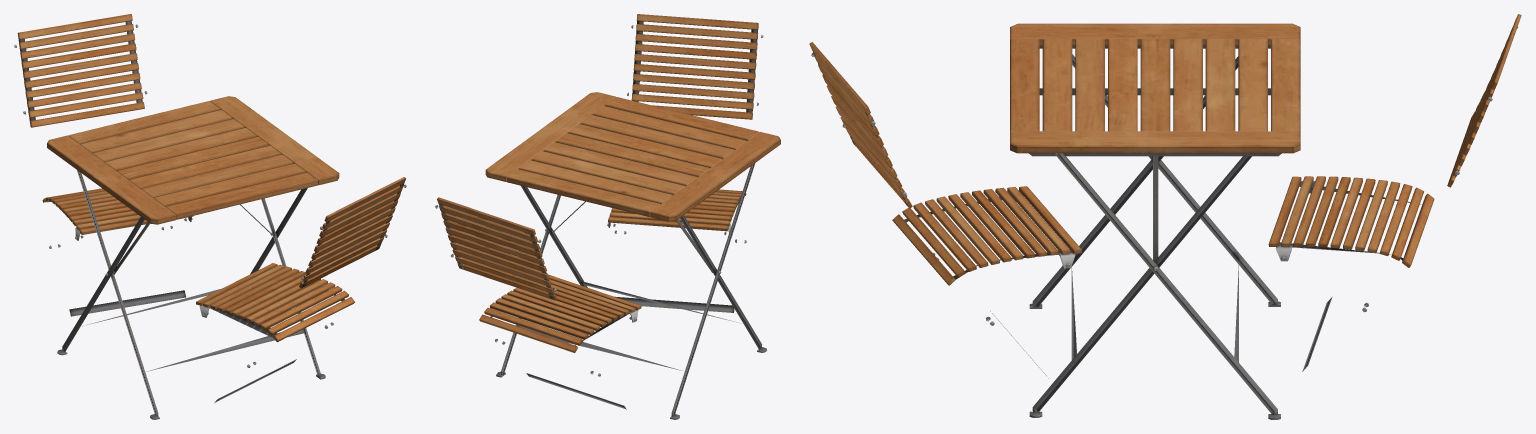
The model's file is outdoor_table_chair_set_01.glb.
3 renders of one model, left to right at view 1: azimuth 30°, elevation 25°; view 2: azimuth 150°, elevation 25°; view 3: azimuth 270°, elevation 25°, orthographic. The views are drawn at different scales.
Parts seen in each view (by area): view 1: outdoor_table_chair_set_01_table, outdoor_table_chair_set_01_chair_01; view 2: outdoor_table_chair_set_01_table, outdoor_table_chair_set_01_chair_01; view 3: outdoor_table_chair_set_01_table, outdoor_table_chair_set_01_chair_01.
Boxes of the visible parts, x1=… form: outdoor_table_chair_set_01_table: x1=47, y1=96, x2=339, y2=419; outdoor_table_chair_set_01_chair_01: x1=14, y1=14, x2=406, y2=402; outdoor_table_chair_set_01_table: x1=485, y1=92, x2=780, y2=419; outdoor_table_chair_set_01_chair_01: x1=435, y1=14, x2=763, y2=409; outdoor_table_chair_set_01_table: x1=1010, y1=23, x2=1300, y2=419; outdoor_table_chair_set_01_chair_01: x1=809, y1=14, x2=1521, y2=378.
Bounding box in the file's own units: 0.7404 × 0.8468 × 1.7.
Materials: 2 (2 with a texture image).
